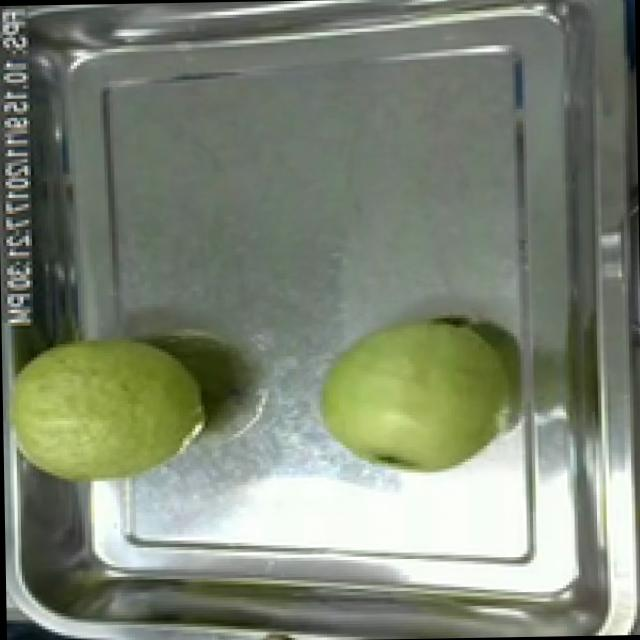Fruit: (307, 304, 518, 487), (3, 322, 214, 496)
